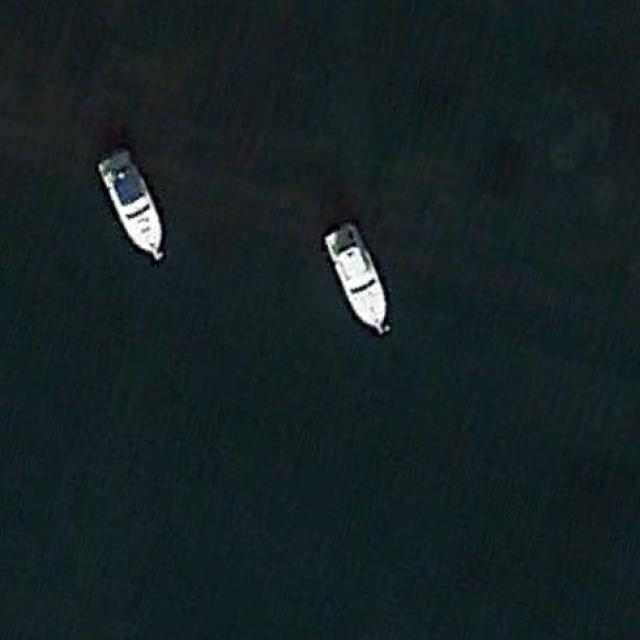boat: (93, 140, 163, 260), (323, 216, 389, 332)
